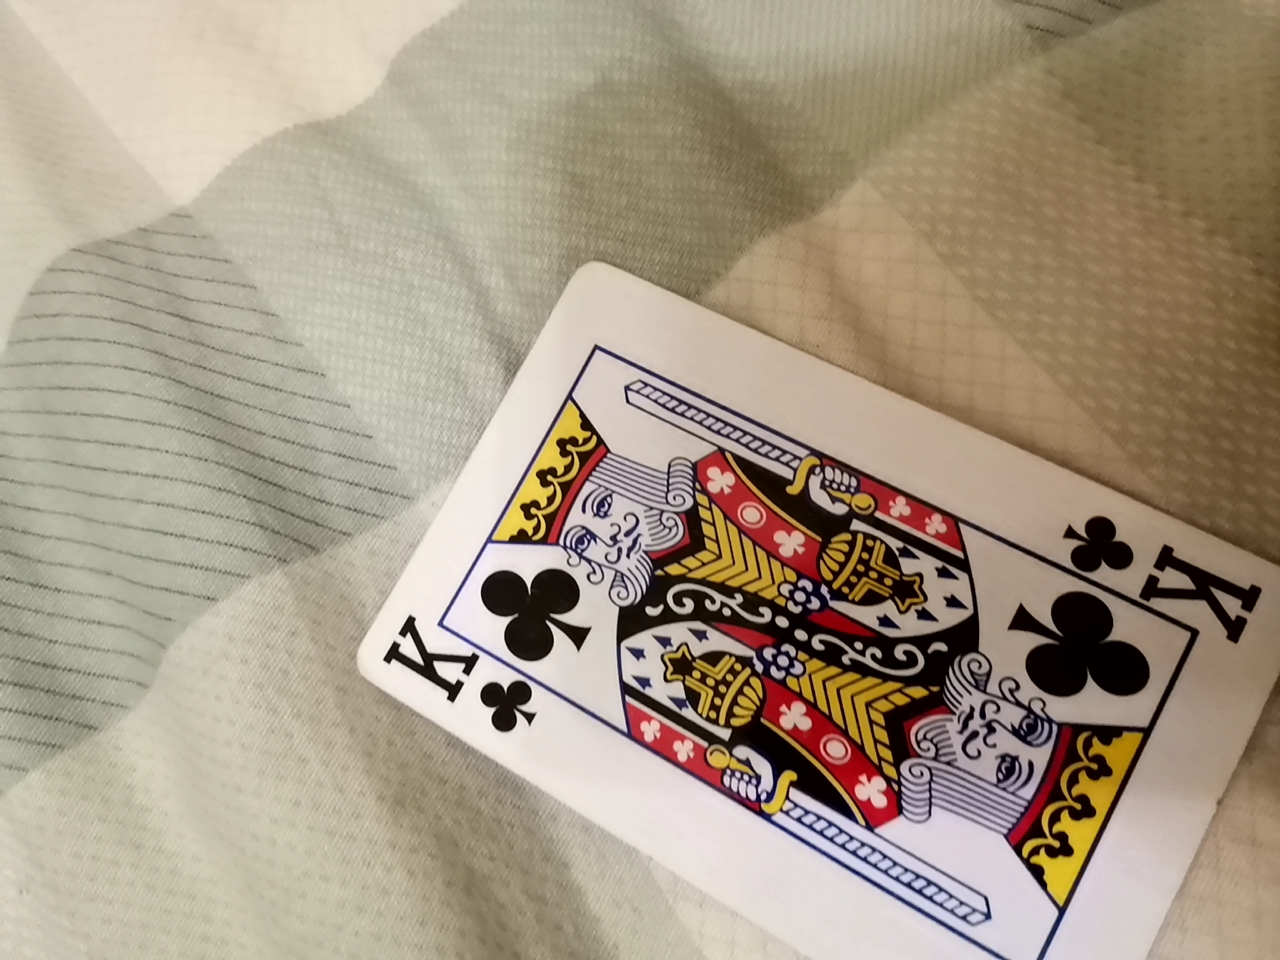mh k: (310, 247, 1265, 956)
